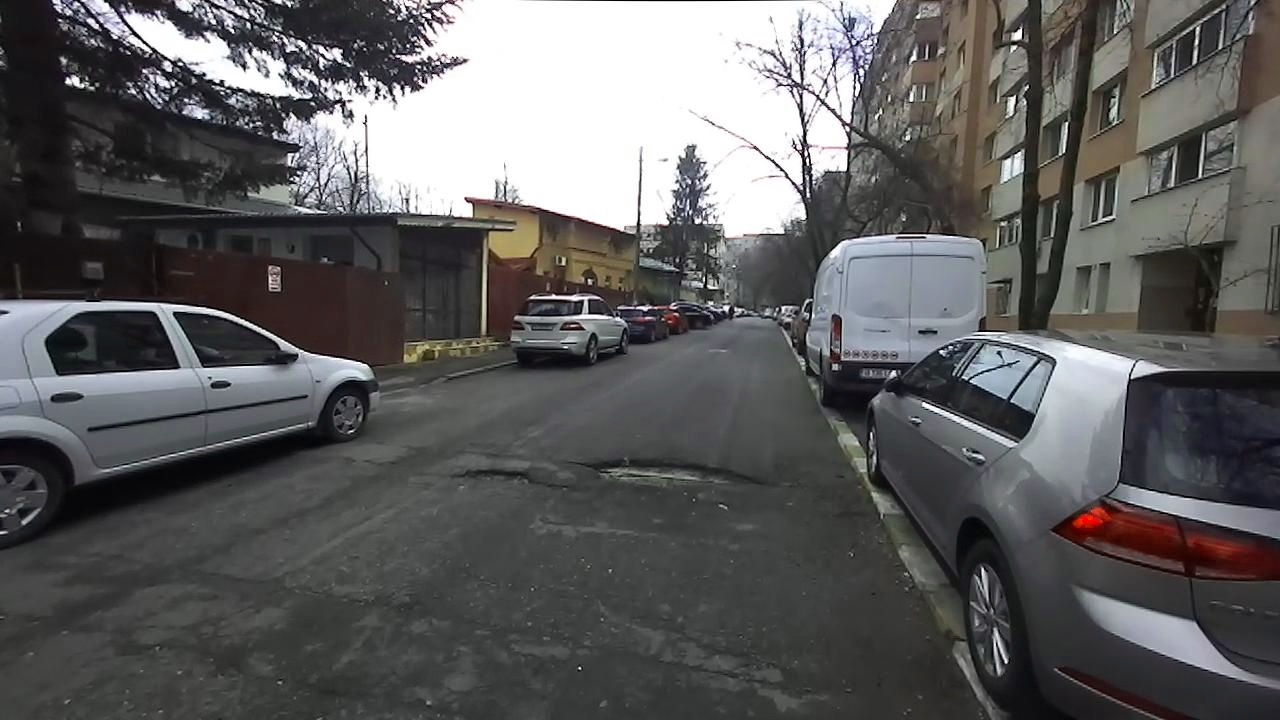pothole: (575, 453, 775, 493), (448, 463, 558, 492)
